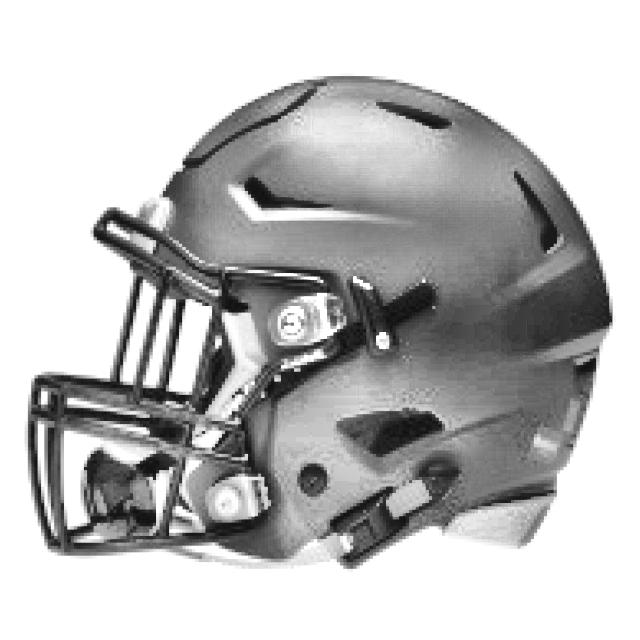Helmet: (21, 67, 617, 588)
